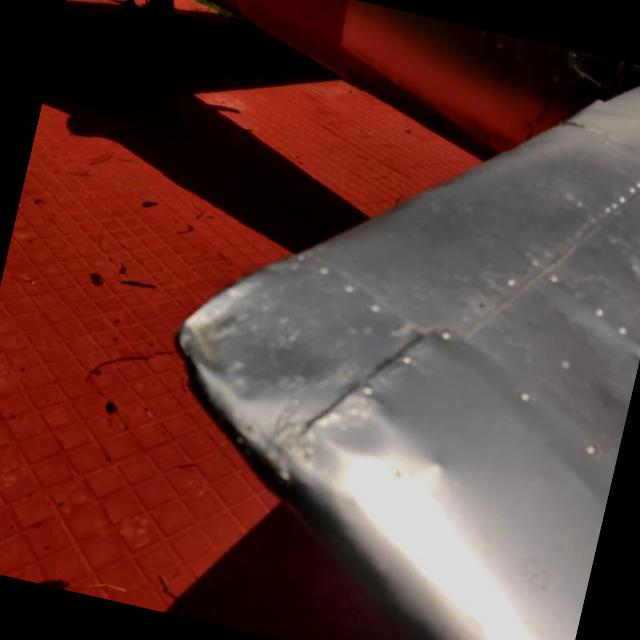dent: (134, 233, 340, 426)
